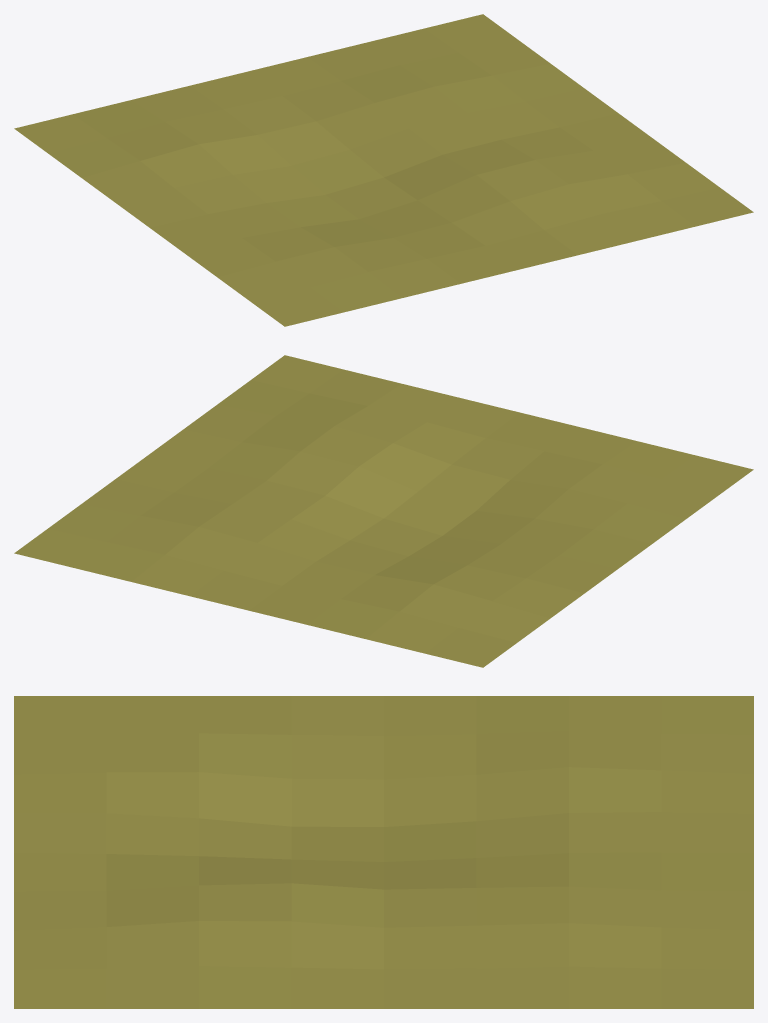
The model's file is Terrain_12_Yellow.fbx.
3 renders of one model, top to bottom at view 1: azimuth 30°, elevation 25°; view 2: azimuth 150°, elevation 25°; view 3: azimuth 270°, elevation 25°, orthographic. The views are drawn at different scales.
Visible parts, largest first — view 1: Terrain_12_Yellow; view 2: Terrain_12_Yellow; view 3: Terrain_12_Yellow.
Boxes of the visible parts, x1,y1,x2,y2 form: Terrain_12_Yellow: (14,14,753,326); Terrain_12_Yellow: (14,355,753,667); Terrain_12_Yellow: (14,696,753,1008).
Bounding box in the file's own units: 5000 × 175 × 5000.
